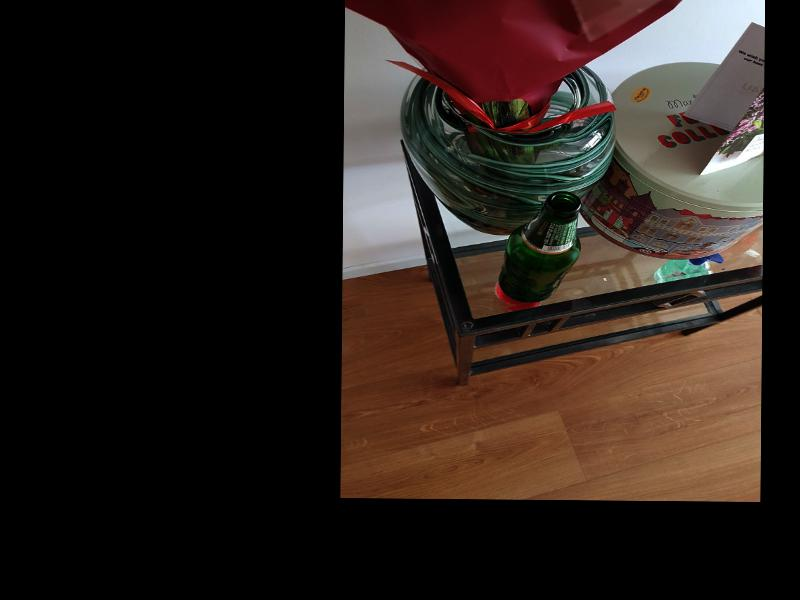Beer: (497, 191, 581, 302)
